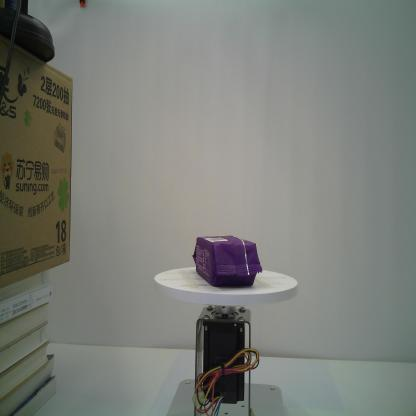Dessert: (190, 233, 265, 291)
